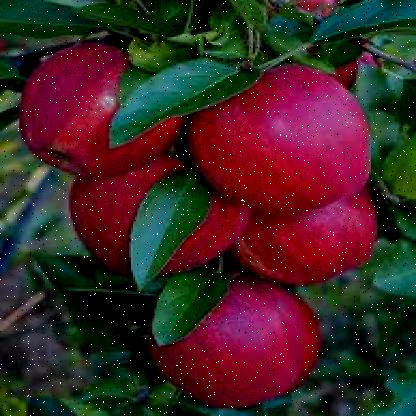apple: (184, 60, 376, 202), (150, 262, 330, 404), (61, 154, 247, 276), (27, 41, 199, 168), (230, 180, 380, 283)
